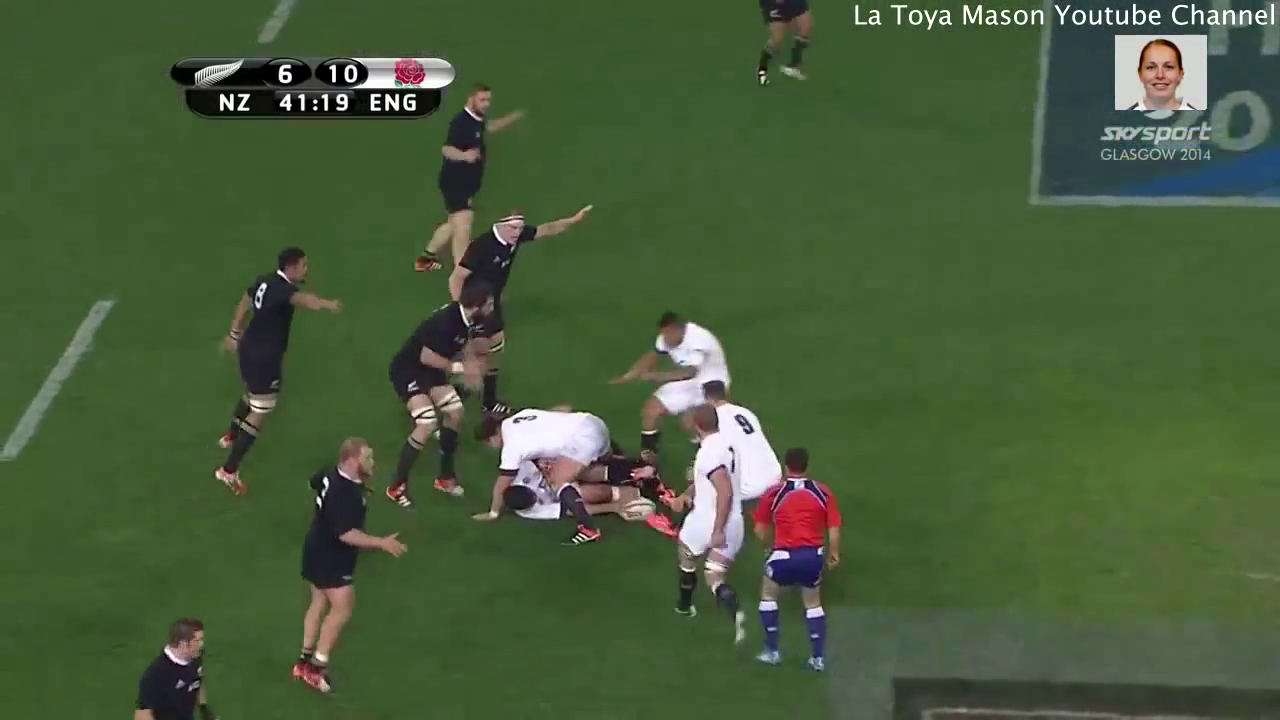ball: (613, 484, 662, 533)
player: (193, 240, 349, 508), (284, 429, 415, 708), (442, 191, 611, 407), (374, 275, 504, 517), (741, 435, 859, 685), (405, 76, 528, 302), (465, 396, 629, 546), (596, 297, 736, 464), (661, 400, 751, 645), (691, 362, 789, 520), (118, 612, 229, 720), (734, 1, 841, 104)
ruck: (469, 391, 722, 557)
